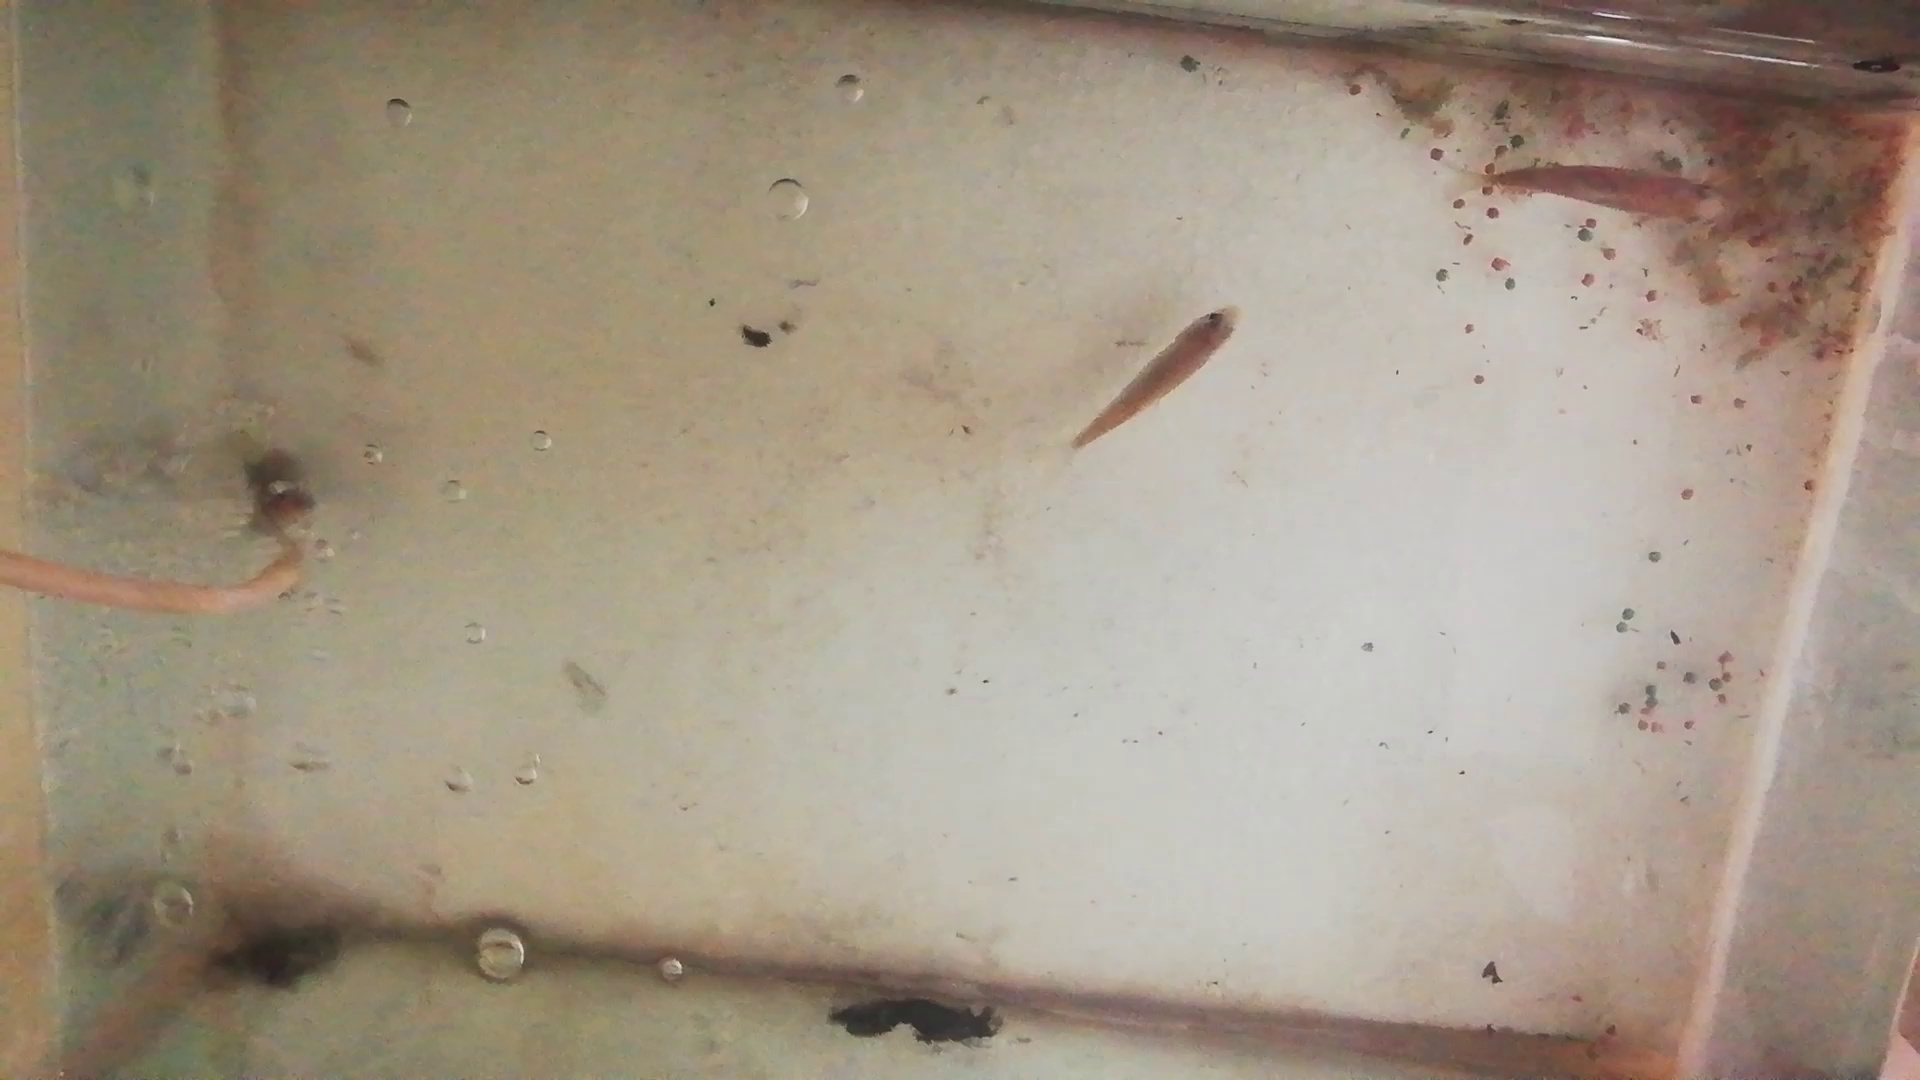fish: (1065, 302, 1244, 454), (1490, 162, 1731, 229)
